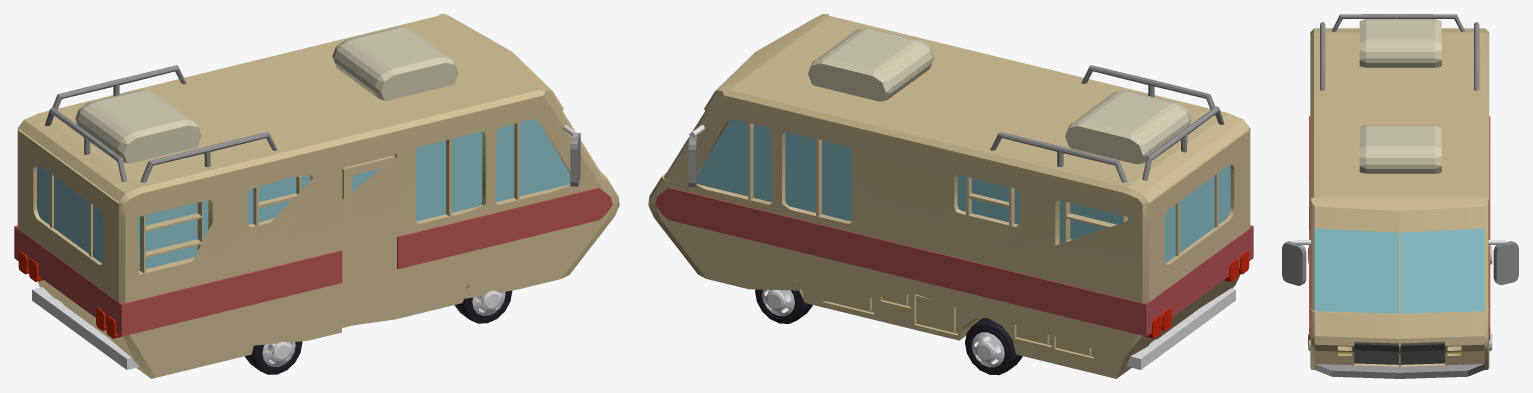
File: van.fbx
3 views of the same model, side by side, from view 1: azimuth 30°, elevation 25°; view 2: azimuth 150°, elevation 25°; view 3: azimuth 270°, elevation 25° (orthographic). The views are drawn at different scales.
Parts seen in each view (by area): view 1: Cube, Cube.001, Cube.003, BC-cutter.008, Cube.004, Plane_tubify.001, Plane_tubify, Plane_tubify.002, BC-cutter.002, Cylinder.009, Cylinder.007, Cylinder.004 (+2 smaller); view 2: Cube, Cube.001, Cube.003, BC-cutter.008, Cube.004, Cylinder.011, Plane_tubify, Plane_tubify.001, Cylinder.010, Plane_tubify.002, BC-cutter.002, Cylinder.002 (+2 smaller); view 3: Cube, Cube.003, BC-cutter.008, Cube.005, BC-cutter.007, Cube.002, Cube.001, Plane_tubify.002, Plane_tubify.001, Plane_tubify.
Part boxes in pixels (left/top/right/bottom): Cube: left=17, top=14, right=619, bottom=378; Cube.001: left=14, top=187, right=612, bottom=336; Cube.003: left=37, top=119, right=570, bottom=270; BC-cutter.008: left=75, top=27, right=458, bottom=163; Cube.004: left=32, top=287, right=138, bottom=369; Plane_tubify.001: left=140, top=132, right=277, bottom=182; Plane_tubify: left=52, top=65, right=186, bottom=115; Plane_tubify.002: left=45, top=107, right=127, bottom=182; BC-cutter.002: left=18, top=251, right=121, bottom=338; Cylinder.009: left=245, top=341, right=302, bottom=374; Cylinder.007: left=262, top=341, right=295, bottom=366; Cylinder.004: left=454, top=290, right=512, bottom=323; Cube: left=648, top=14, right=1250, bottom=378; Cube.001: left=655, top=187, right=1253, bottom=336; Cube.003: left=696, top=119, right=1230, bottom=263; BC-cutter.008: left=808, top=28, right=1191, bottom=164; Cube.004: left=1126, top=288, right=1235, bottom=369; Cylinder.011: left=965, top=318, right=1022, bottom=375; Plane_tubify: left=990, top=132, right=1127, bottom=182; Plane_tubify.001: left=1081, top=65, right=1215, bottom=115; Cylinder.010: left=971, top=332, right=1004, bottom=367; Plane_tubify.002: left=1142, top=106, right=1224, bottom=180; BC-cutter.002: left=1145, top=251, right=1249, bottom=338; Cylinder.002: left=755, top=289, right=812, bottom=323; Cube: left=1310, top=28, right=1489, bottom=370; Cube.003: left=1314, top=228, right=1484, bottom=313; BC-cutter.008: left=1359, top=19, right=1441, bottom=173; Cube.005: left=1314, top=364, right=1484, bottom=378; BC-cutter.007: left=1282, top=241, right=1518, bottom=285; Cube.002: left=1354, top=342, right=1444, bottom=364; Cube.001: left=1309, top=116, right=1490, bottom=340; Plane_tubify.002: left=1332, top=14, right=1464, bottom=31; Plane_tubify.001: left=1320, top=22, right=1325, bottom=90; Plane_tubify: left=1474, top=22, right=1479, bottom=90.
Size of the model in its own units: 1191 by 556 by 567.
